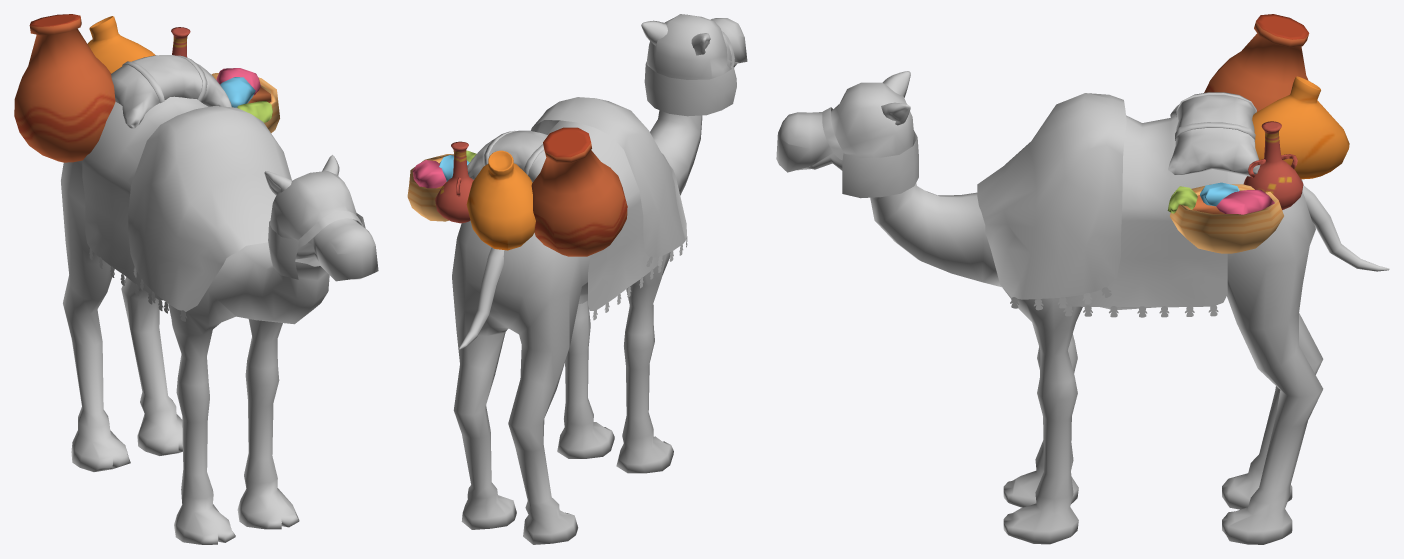
File: Camello_1.fbx
3 renders of one model, left to right at view 1: azimuth 30°, elevation 25°; view 2: azimuth 150°, elevation 25°; view 3: azimuth 270°, elevation 25°, orthographic. The views are drawn at different scales.
Parts seen in each view (by area): view 1: MDL_Camello_J, MDL_Camello_J_Ropa, MDL_Mercado, MDL_Camello_J_Adorno, MDL_Camello_J_Ropa.001; view 2: MDL_Camello_J, MDL_Mercado, MDL_Camello_J_Ropa, MDL_Camello_J_Adorno; view 3: MDL_Camello_J, MDL_Camello_J_Ropa, MDL_Mercado, MDL_Camello_J_Adorno.
Part boxes in pixels (left/top/right/bottom): MDL_Camello_J: left=61, top=155, right=378, bottom=544; MDL_Camello_J_Ropa: left=82, top=55, right=291, bottom=321; MDL_Mercado: left=14, top=14, right=279, bottom=162; MDL_Camello_J_Adorno: left=268, top=213, right=365, bottom=279; MDL_Camello_J_Ropa.001: left=298, top=210, right=362, bottom=247; MDL_Camello_J: left=452, top=14, right=747, bottom=544; MDL_Mercado: left=407, top=127, right=627, bottom=256; MDL_Camello_J_Ropa: left=467, top=97, right=687, bottom=320; MDL_Camello_J_Adorno: left=644, top=62, right=736, bottom=116; MDL_Camello_J: left=776, top=71, right=1389, bottom=544; MDL_Camello_J_Ropa: left=977, top=92, right=1260, bottom=317; MDL_Mercado: left=1167, top=14, right=1349, bottom=253; MDL_Camello_J_Adorno: left=842, top=130, right=918, bottom=198.
Bounding box in the file's own units: 131 × 240 × 287.
